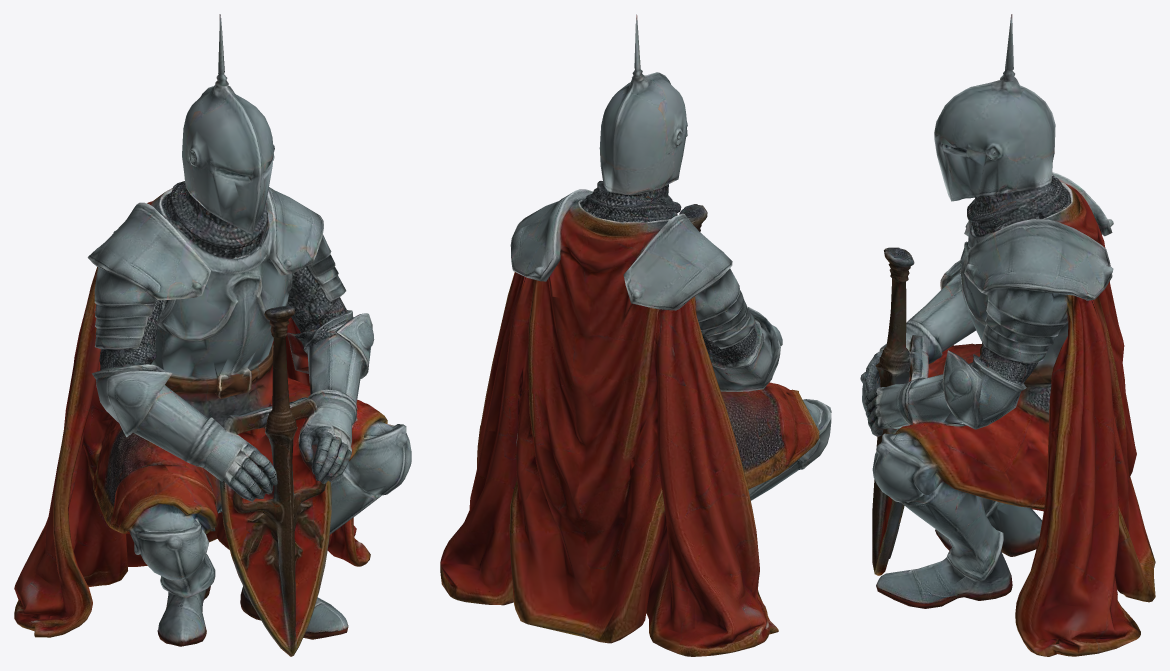
The model's file is knight_sitting.glb.
3 views of the same model, side by side, from view 1: azimuth 30°, elevation 25°; view 2: azimuth 150°, elevation 25°; view 3: azimuth 270°, elevation 25° (orthographic). The views are drawn at different scales.
Bounding box in the file's own units: 1.13 × 1.9 × 0.8982.
1 material, 1 textured.
